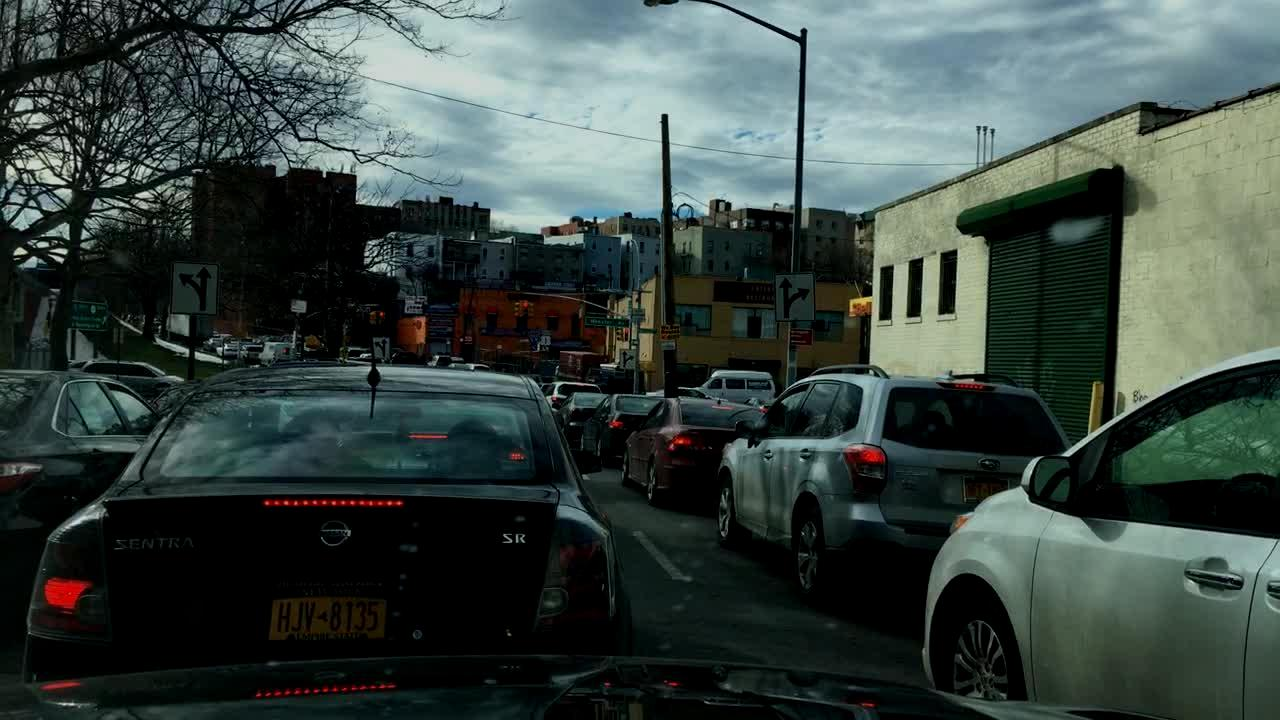Nissan: (305, 514, 363, 555)
subaru: (974, 450, 1009, 472)
